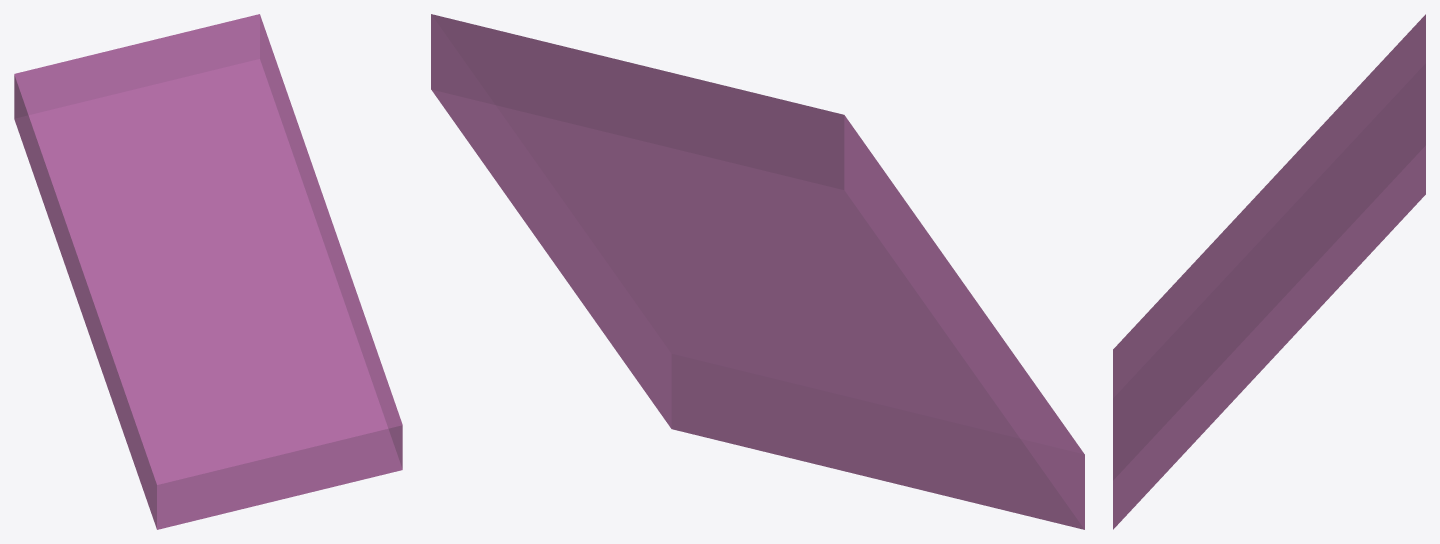
The model's file is SM_Bld_Roof_Ruin_Straight_04_Collision.fbx.
3 views of the same model, side by side, from view 1: azimuth 30°, elevation 25°; view 2: azimuth 150°, elevation 25°; view 3: azimuth 270°, elevation 25° (orthographic). The views are drawn at different scales.
Visible parts, largest first — view 1: SM_Bld_Roof_Ruin_Straight_04_Collision; view 2: SM_Bld_Roof_Ruin_Straight_04_Collision; view 3: SM_Bld_Roof_Ruin_Straight_04_Collision.
Boxes of the visible parts, x1,y1,x2,y2 form: SM_Bld_Roof_Ruin_Straight_04_Collision: (14,14,402,529); SM_Bld_Roof_Ruin_Straight_04_Collision: (431,14,1084,529); SM_Bld_Roof_Ruin_Straight_04_Collision: (1113,14,1425,529).
Bounding box in the file's own units: 256 × 349 × 257.
